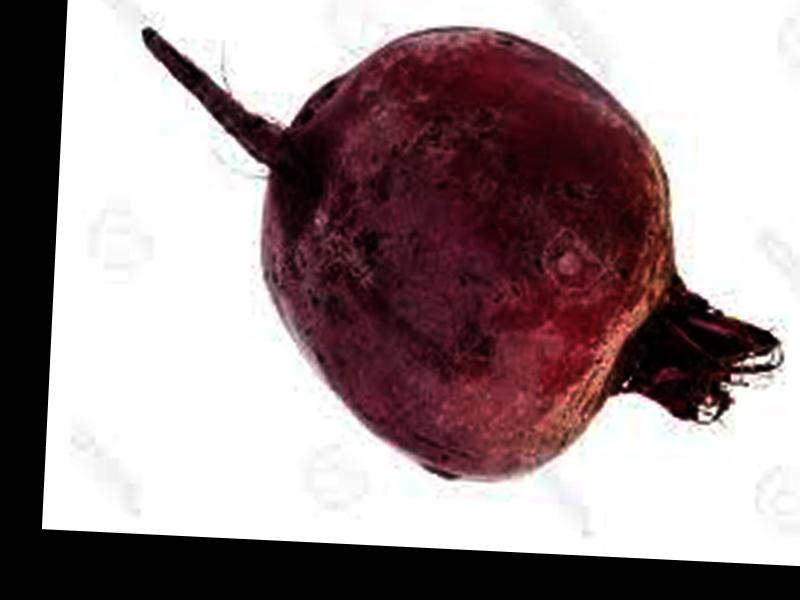Beet: (128, 14, 793, 489)
